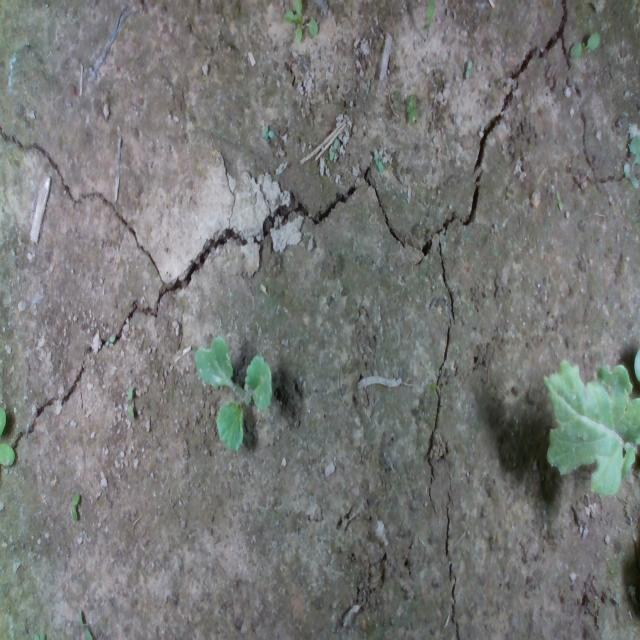weed: (122, 380, 138, 422), (371, 144, 389, 180), (62, 490, 82, 522), (257, 118, 277, 143), (464, 54, 474, 78)
